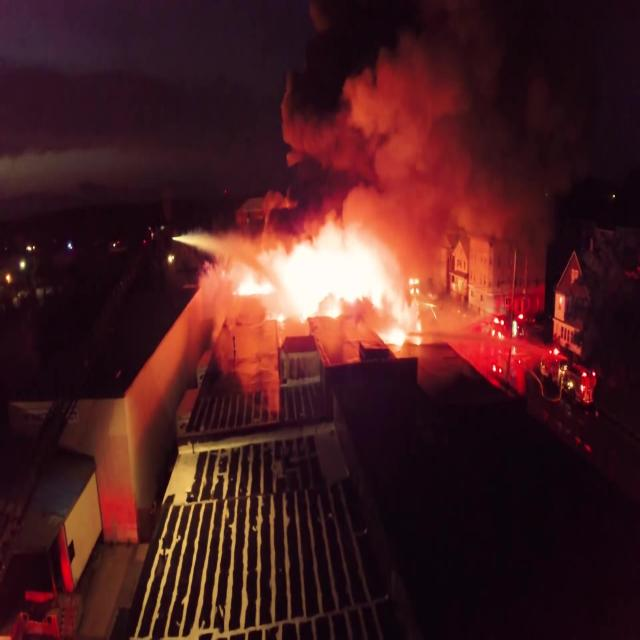Fire: (234, 218, 424, 358)
Smoke: (264, 0, 602, 243)
